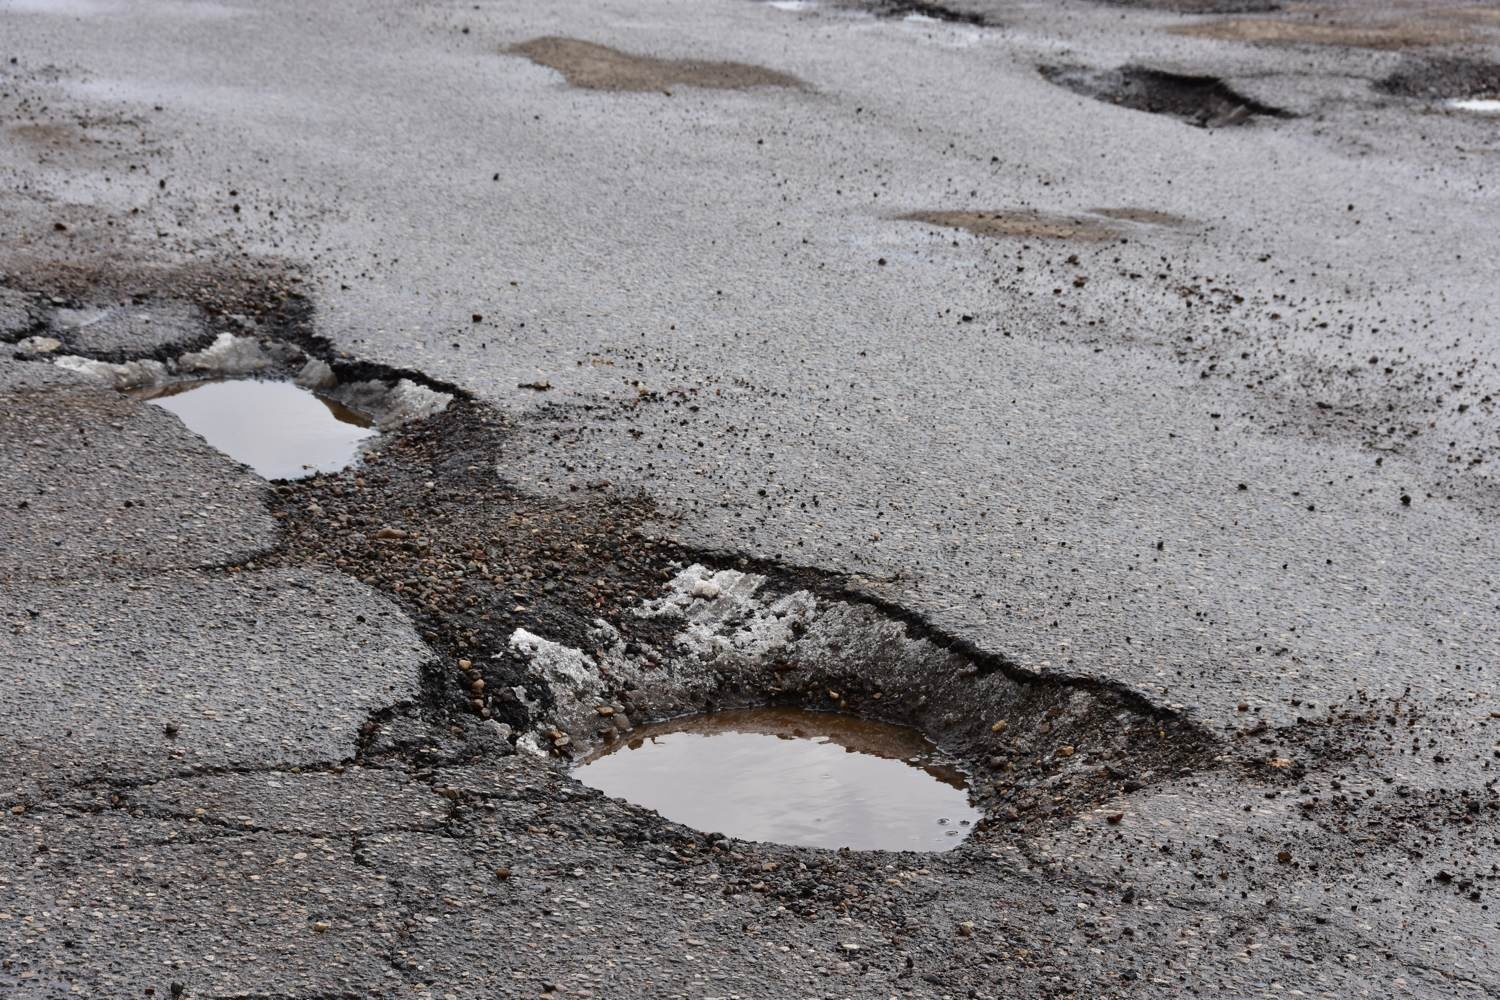pothole: (22, 175, 1265, 936)
